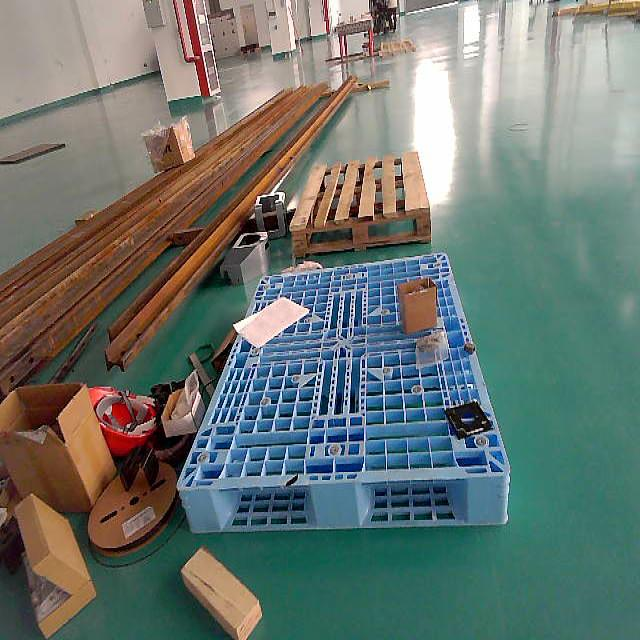euro: (292, 152, 432, 260)
